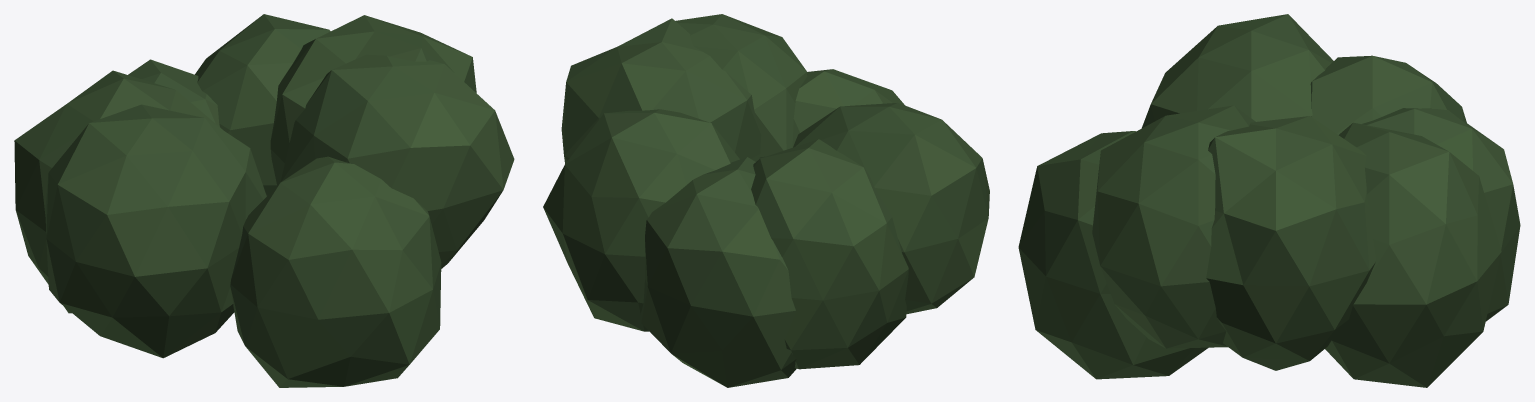
File: forest-bush.glb
3 renders of one model, left to right at view 1: azimuth 30°, elevation 25°; view 2: azimuth 150°, elevation 25°; view 3: azimuth 270°, elevation 25°, orthographic. The views are drawn at different scales.
Visible parts, largest first — view 1: forest-bush; view 2: forest-bush; view 3: forest-bush.
Part boxes in pixels (box(x1,y1,x2,y2)): forest-bush: box(14, 14, 514, 387); forest-bush: box(543, 14, 989, 387); forest-bush: box(1018, 14, 1520, 387).
Size of the model in its own units: 1.01 by 0.6402 by 0.9814.
